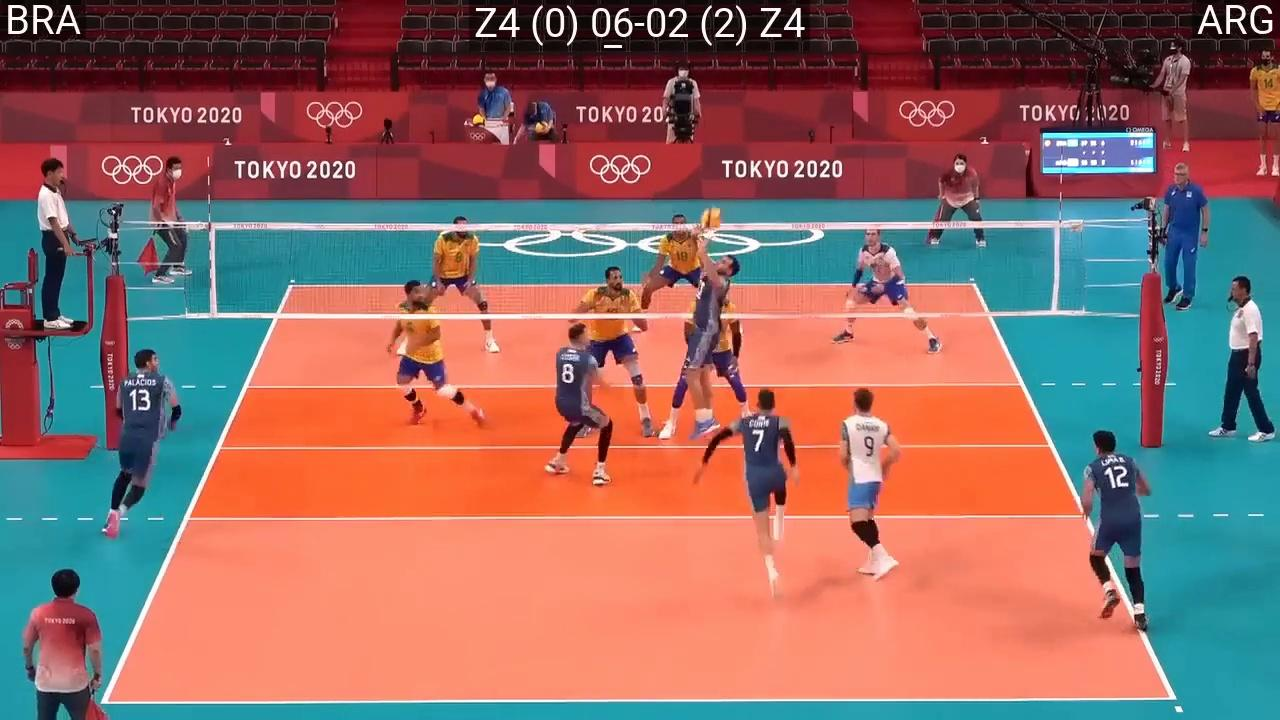ball: (700, 206, 724, 231)
